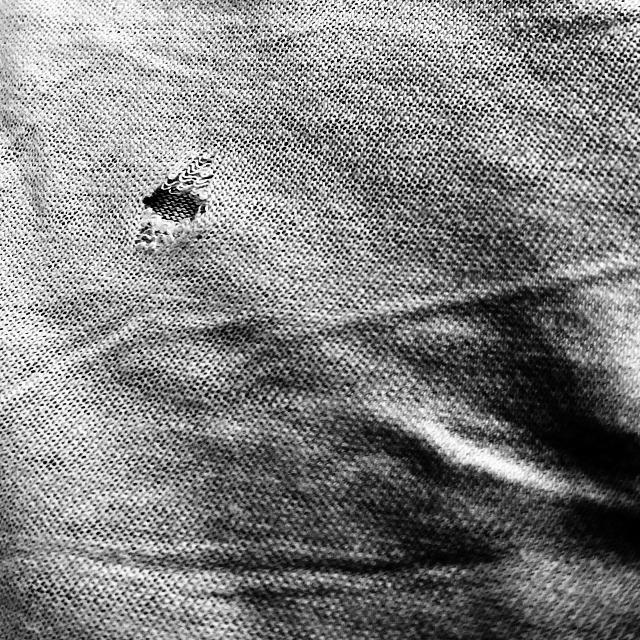Hole: (123, 158, 234, 263)
